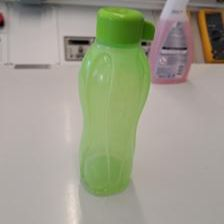bottle: (76, 6, 155, 195)
